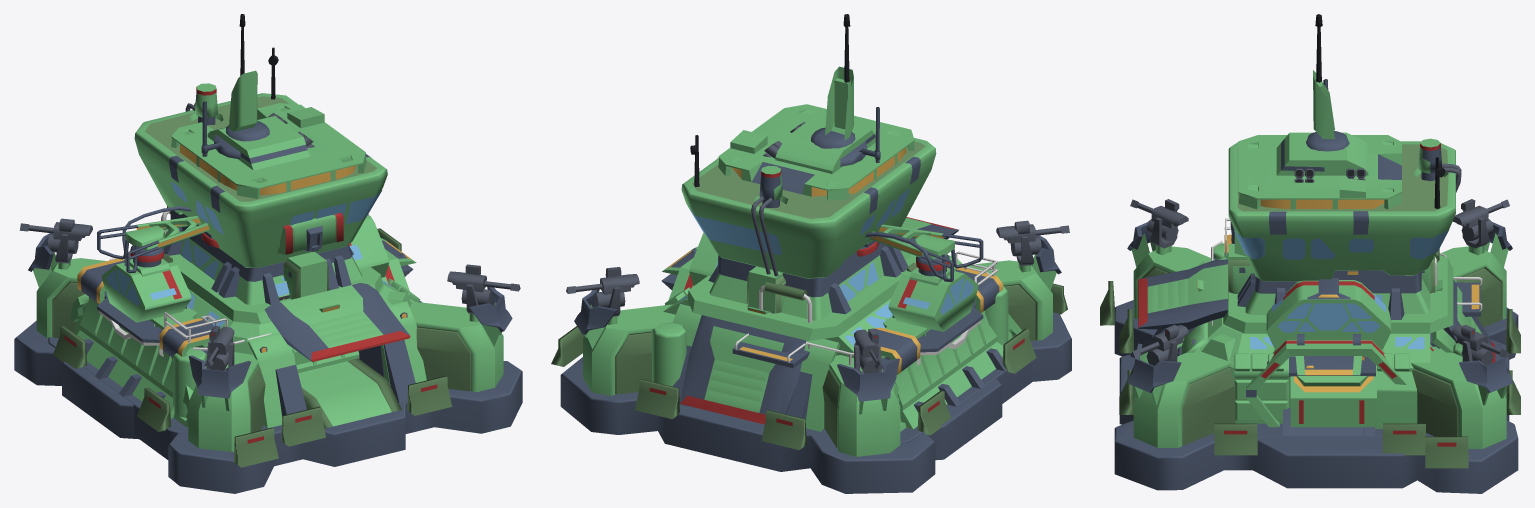
Rendered from Base_buildings.fbx.
The picture shows the model from 3 angles, left to right: view 1: azimuth 30°, elevation 25°; view 2: azimuth 150°, elevation 25°; view 3: azimuth 270°, elevation 25°; orthographic projection.
Parts seen in each view (by area): view 1: Cube.023, Plane.023, Cube.056, Cube.001; view 2: Cube.023, Plane.023, Cube.056; view 3: Cube.023, Plane.023, Cube.056, Cube.008.
Part boxes in pixels (bbox=[...]): Cube.023: bbox=[14, 14, 522, 493]; Plane.023: bbox=[48, 206, 416, 459]; Cube.056: bbox=[283, 251, 328, 365]; Cube.001: bbox=[277, 212, 343, 254]; Cube.023: bbox=[551, 14, 1071, 493]; Plane.023: bbox=[662, 224, 1032, 444]; Cube.056: bbox=[746, 266, 786, 313]; Cube.023: bbox=[1100, 14, 1520, 493]; Plane.023: bbox=[1211, 218, 1482, 436]; Cube.056: bbox=[1228, 244, 1435, 293]; Cube.008: bbox=[1294, 168, 1365, 182].
Bounding box in the file's own units: 446 × 442 × 444.
